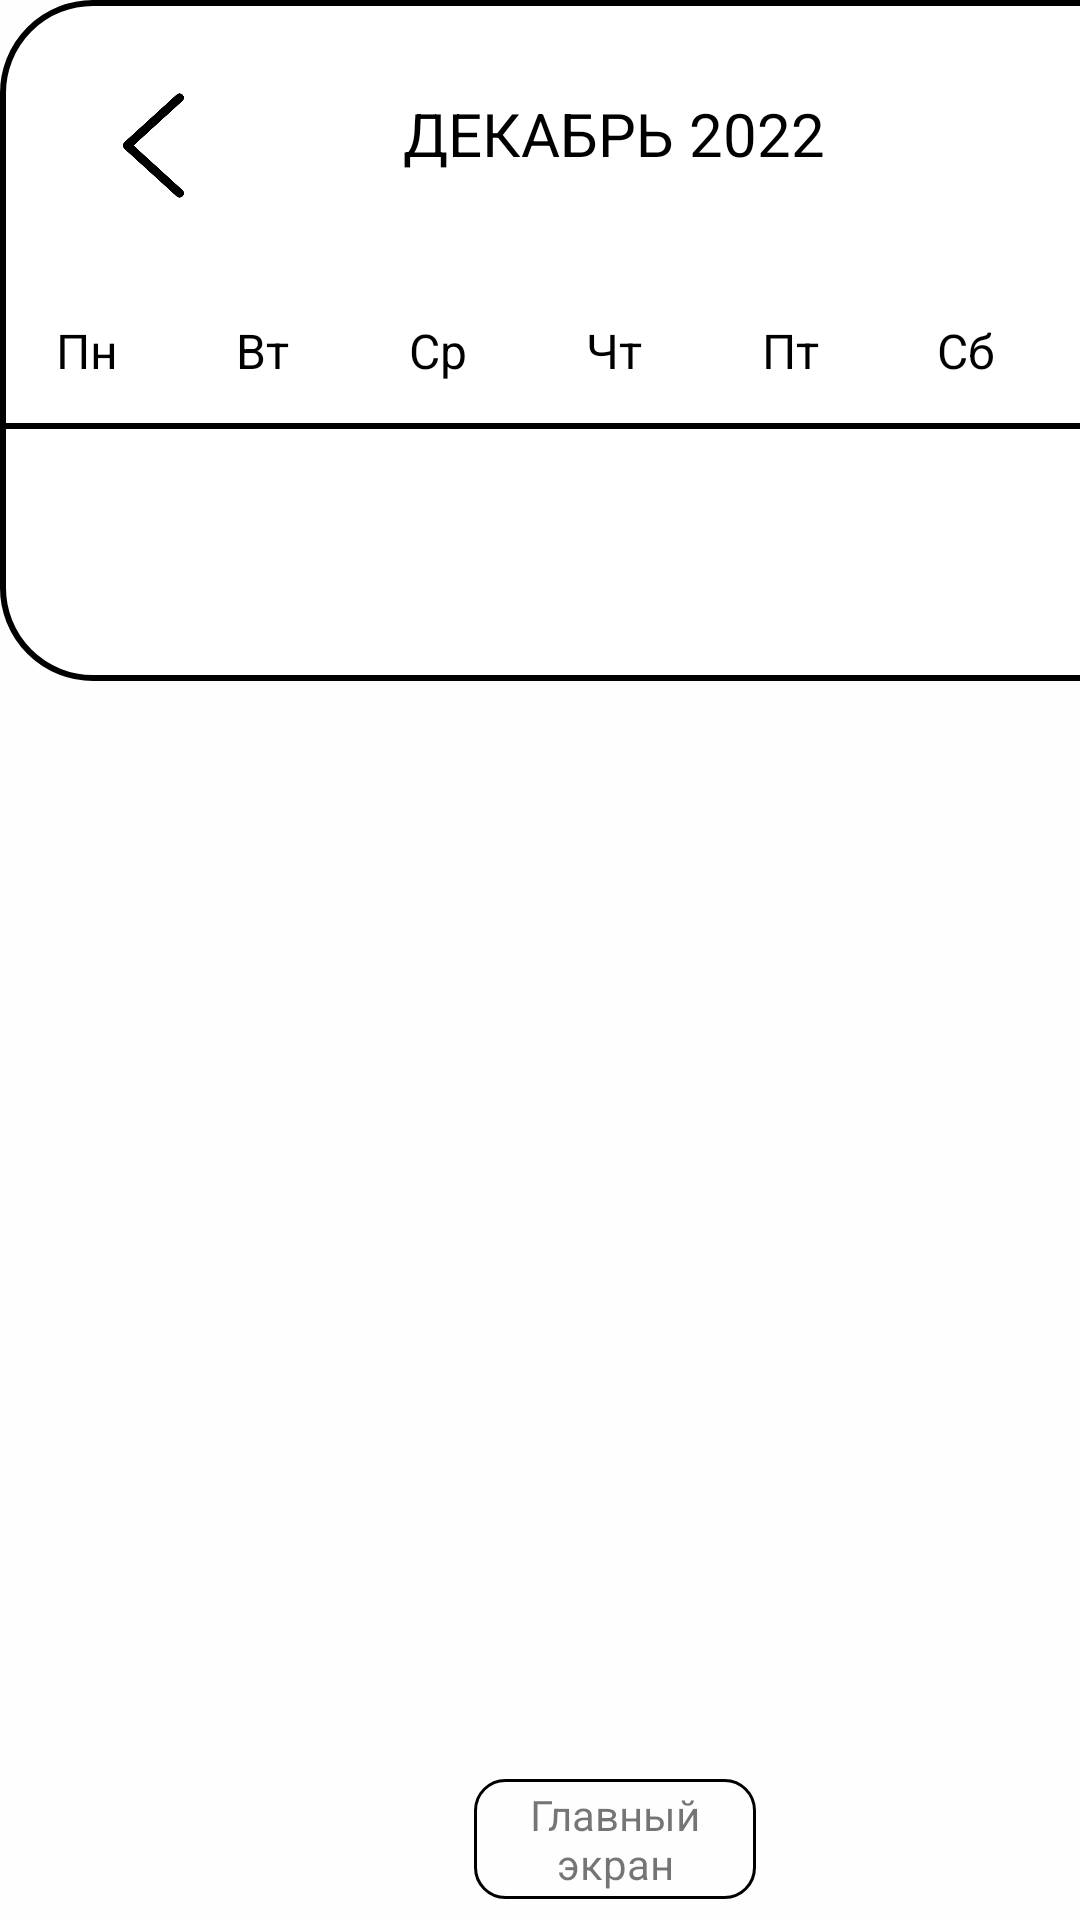

Named icons in this screenshot (1080×1920) and their centers, [x,y]:
obratno: [153,145]
